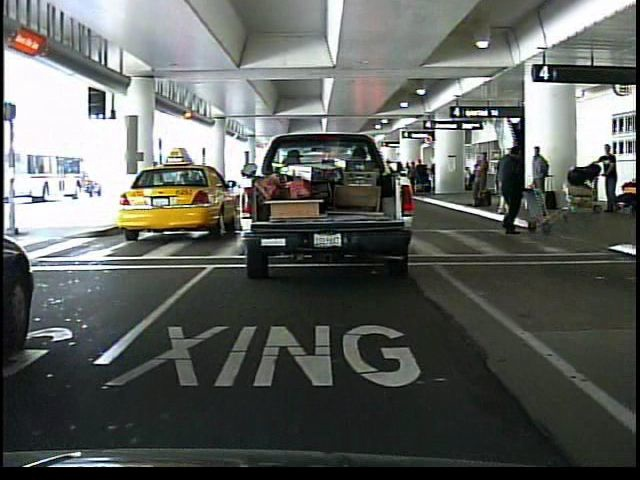person: (492, 145, 534, 237), (594, 139, 625, 217), (495, 146, 516, 224)
